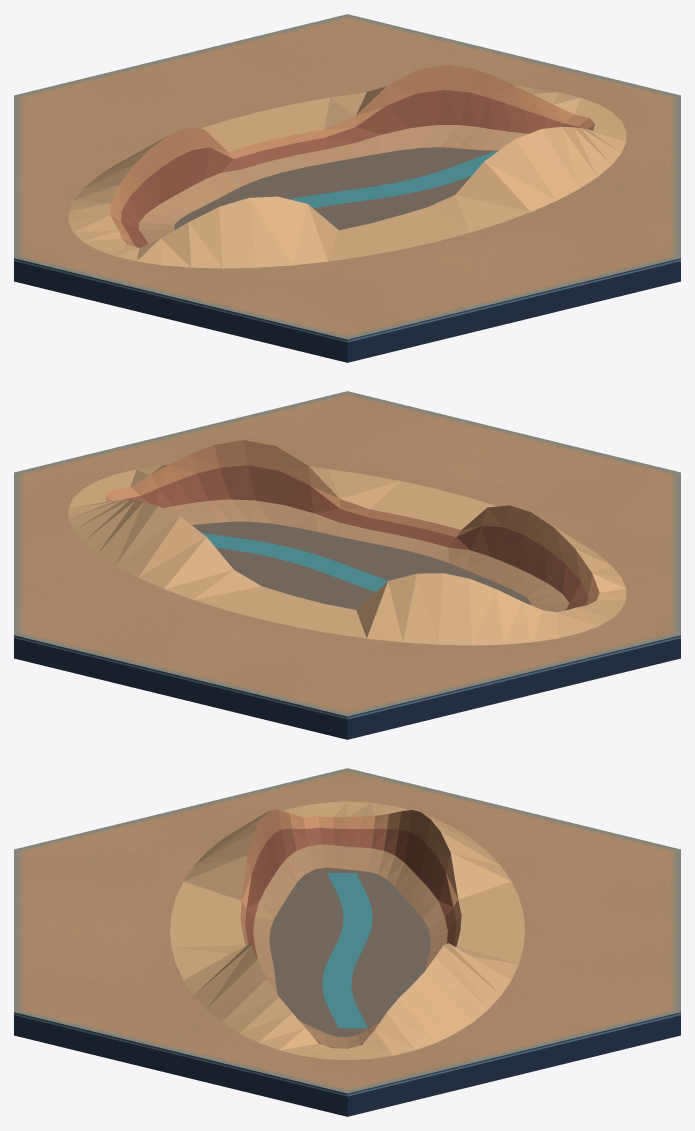
3 renders of one model, top to bottom at view 1: azimuth 30°, elevation 25°; view 2: azimuth 150°, elevation 25°; view 3: azimuth 270°, elevation 25°, orthographic.
Parts seen in each view (by area): view 1: campus_tile_canyon; view 2: campus_tile_canyon; view 3: campus_tile_canyon.
Part boxes in pixels (left/top/right/bottom): campus_tile_canyon: left=14, top=14, right=680, bottom=362; campus_tile_canyon: left=14, top=391, right=680, bottom=739; campus_tile_canyon: left=14, top=768, right=680, bottom=1116.
Bounding box in the file's own units: 36 × 3.51 × 31.18.
Materials: 1 (1 with a texture image).
